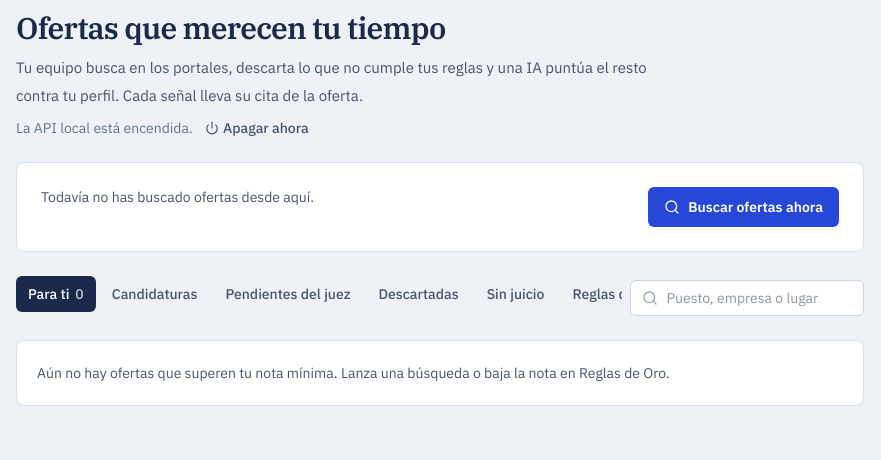
Test: HunterView › las descartadas explican la regla
Click the tab "Descartadas" at (419, 294), box [366,276,471,312]
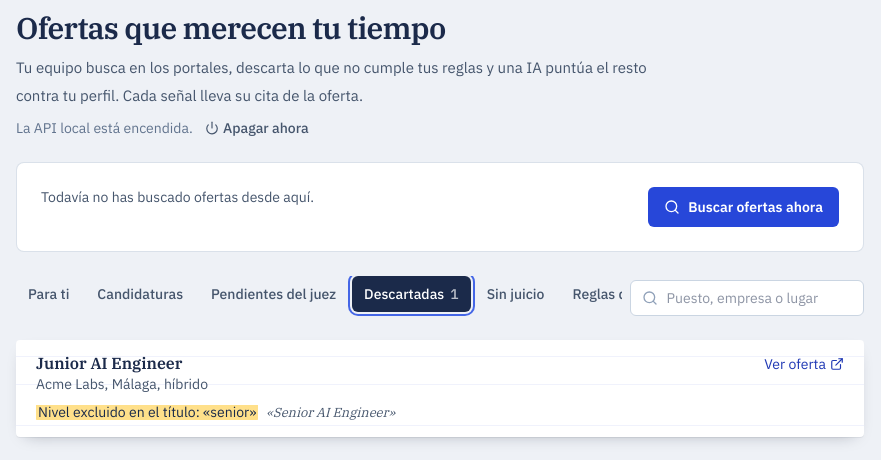
Expected: the text "Nivel excluido en el título: «senior»" is shown, [36,403,258,421]
